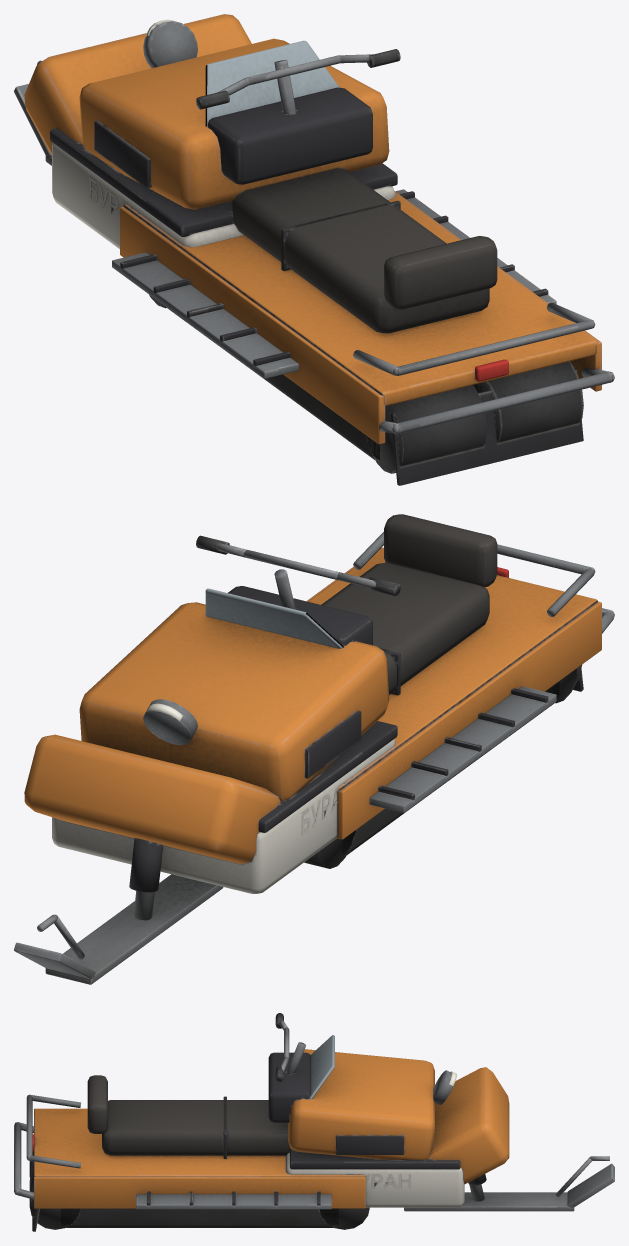
File: buran.glb
The picture shows the model from 3 angles, top to bottom: view 1: azimuth 30°, elevation 25°; view 2: azimuth 150°, elevation 25°; view 3: azimuth 270°, elevation 25°; orthographic projection. The views are drawn at different scales.
Visible parts, largest first — view 1: buran; view 2: buran; view 3: buran.
Part boxes in pixels (x1,y1,x2,y2): buran: [14, 14, 614, 485]; buran: [14, 514, 614, 984]; buran: [14, 1013, 614, 1231].
Bounding box in the file's own units: 1.27 × 1.07 × 3.53.
1 material, 1 textured.
